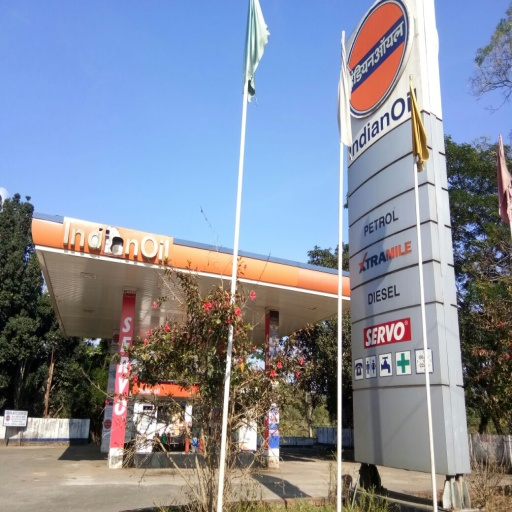roof: (29, 208, 358, 351)
